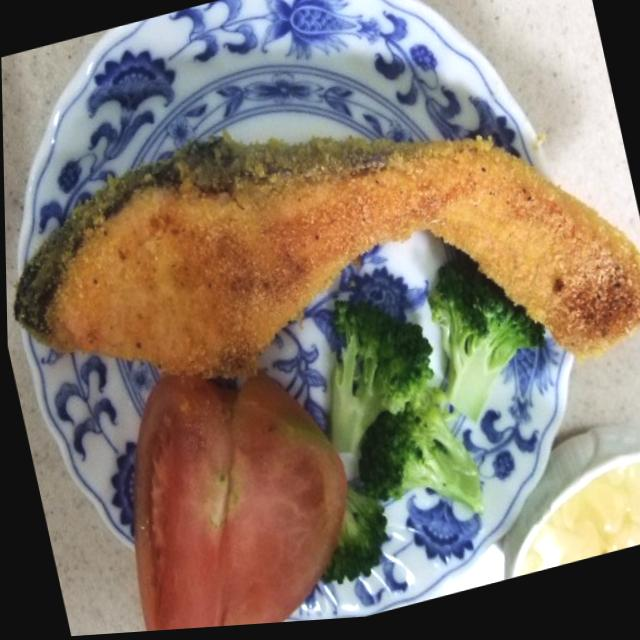熟制海鲜: (1, 33, 640, 510)
